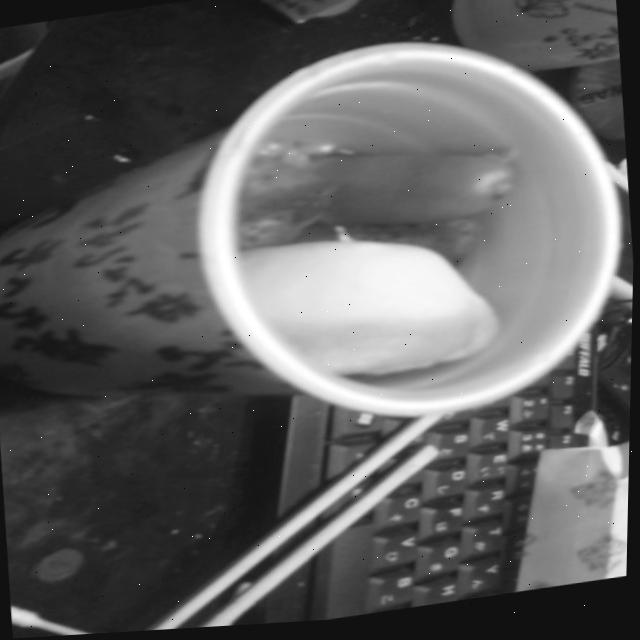汤锅炖物: (0, 20, 639, 471)
